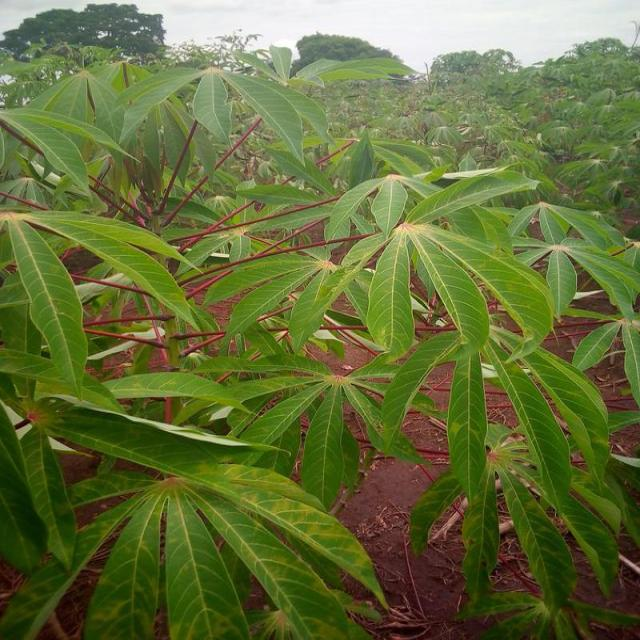cassava leaf: (2, 46, 639, 638)
